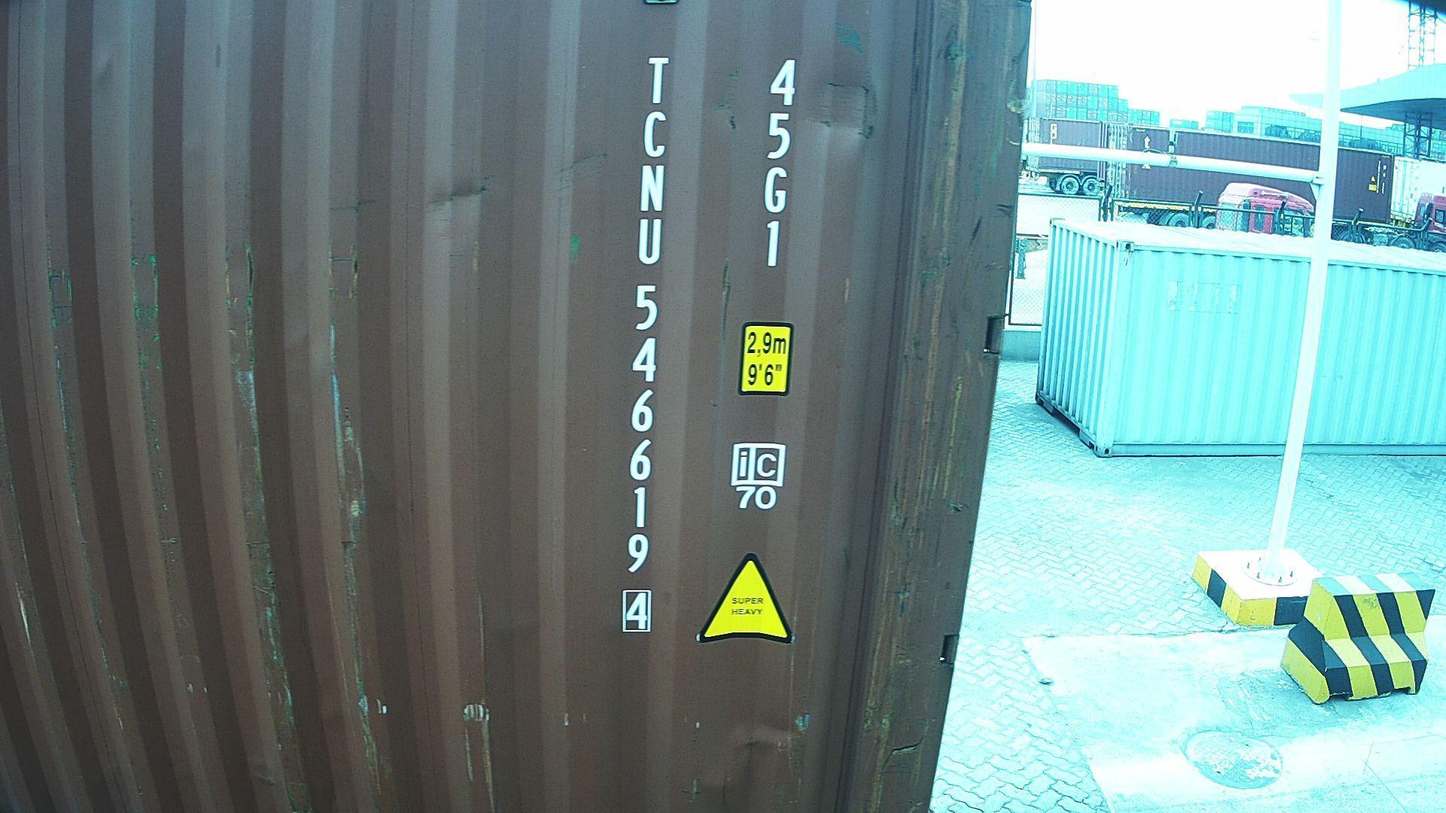container-numbers: (614, 53, 679, 644), (755, 54, 806, 274)
